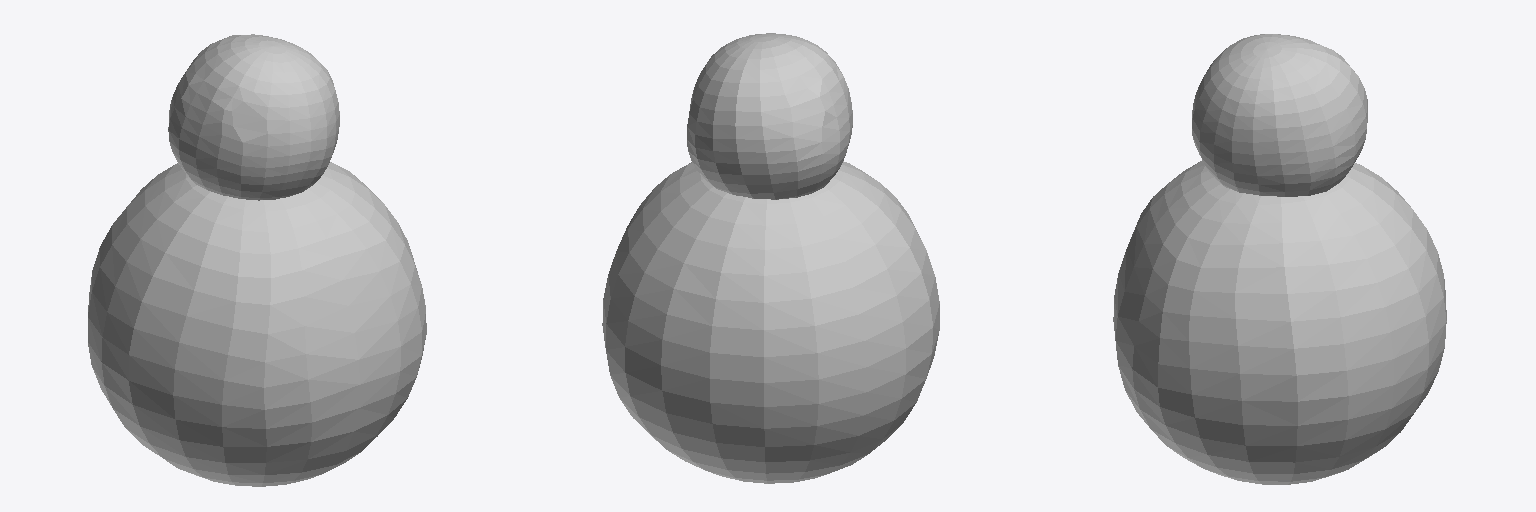
Rendered from corp_snowman.obj.
The picture shows the model from 3 angles: view 1: azimuth 30°, elevation 25°; view 2: azimuth 150°, elevation 25°; view 3: azimuth 270°, elevation 25°; orthographic projection.
Parts seen in each view (by area): view 1: corp_snowman; view 2: corp_snowman; view 3: corp_snowman.
Part boxes in pixels (bbox=[...]): corp_snowman: bbox=[88, 34, 426, 486]; corp_snowman: bbox=[602, 33, 939, 483]; corp_snowman: bbox=[1113, 34, 1446, 484].
Bounding box in the file's own units: 0.4812 × 0.6708 × 0.4748.